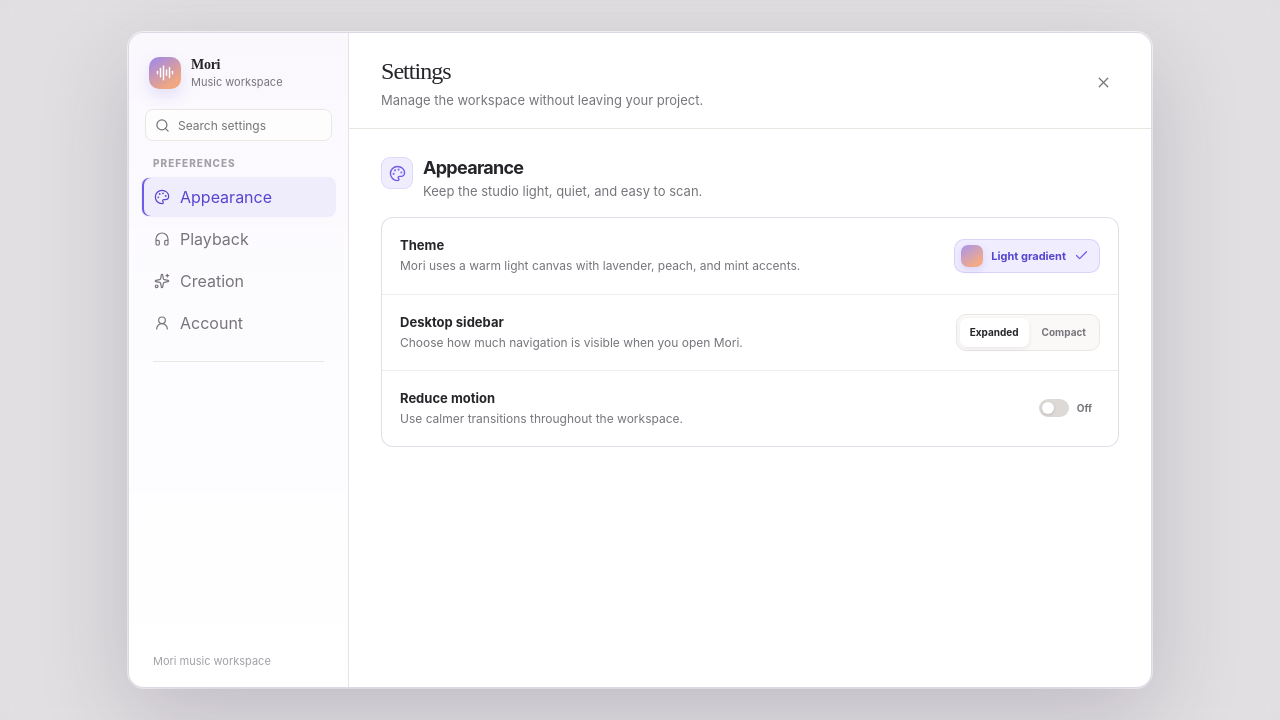
Test: Mori settings › keeps the selected panel aligned with filtered settings sections
Click the tab "Playback".
click(238, 239)  # box [141,219,336,259]
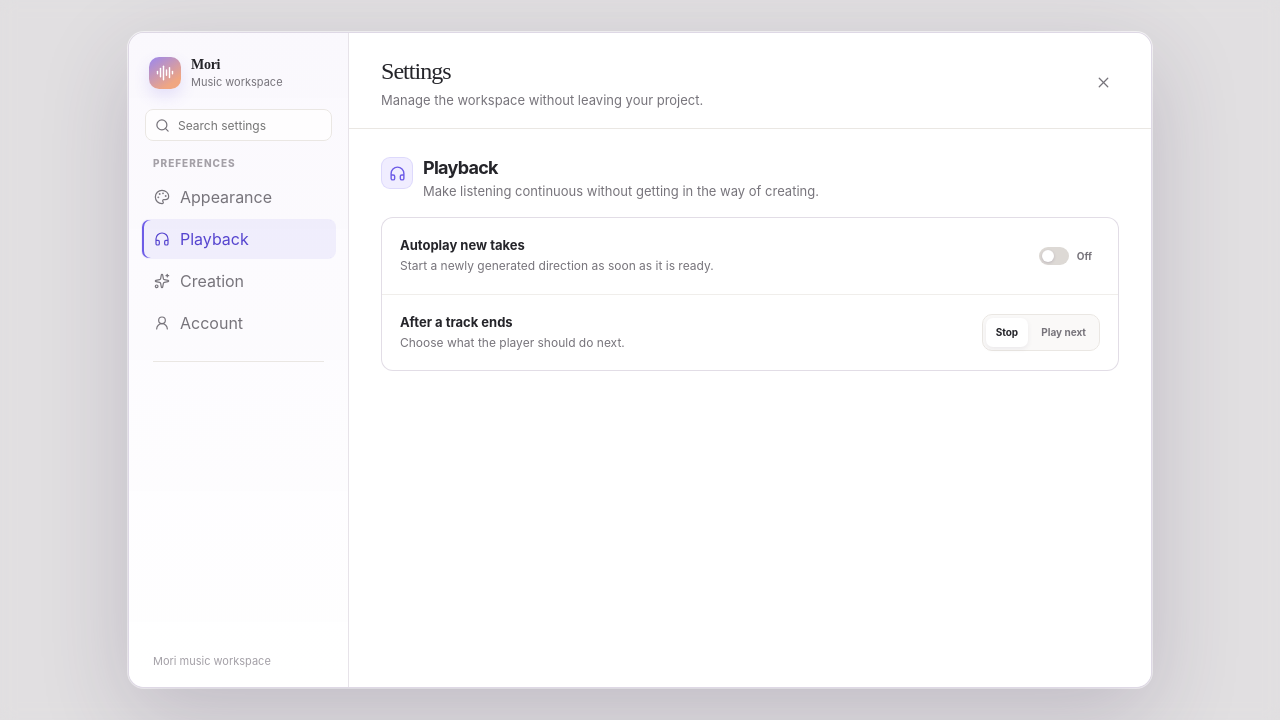
Type "creation" into the field labelled "Search settings".
click(238, 125); type("creation")  # box [145,109,332,141]
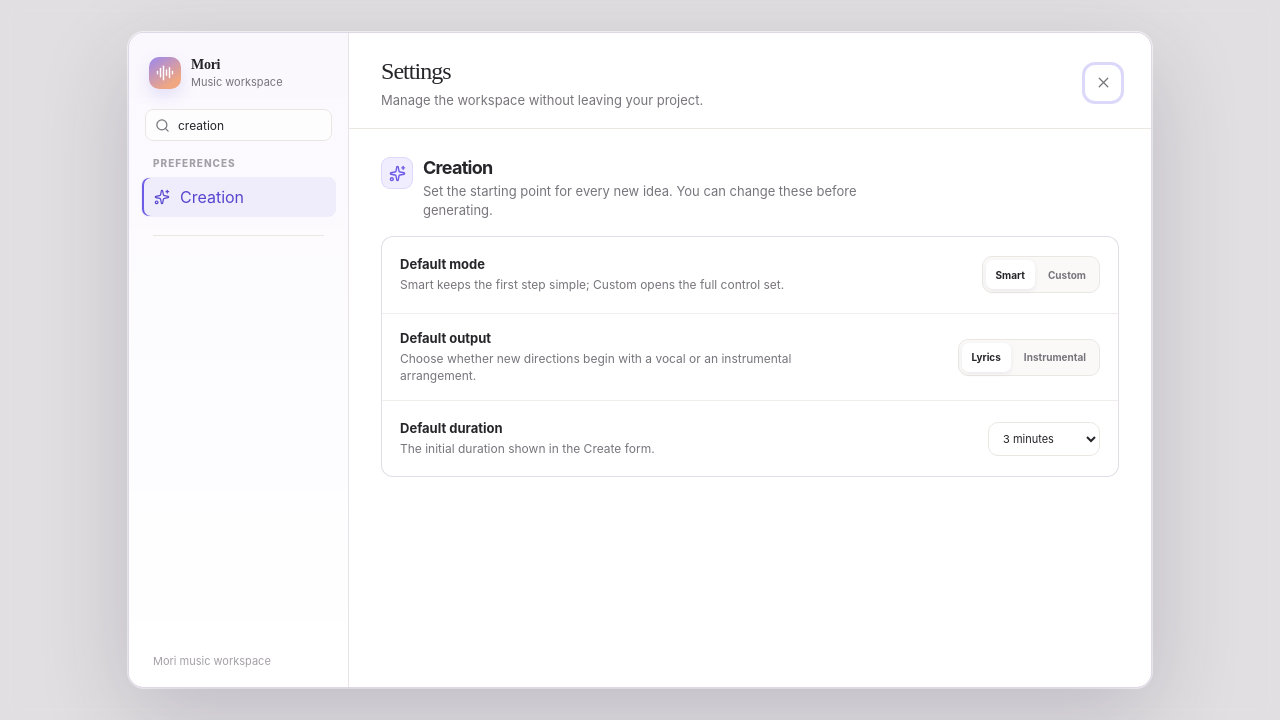
Now the panel "Creation" is shown, box [381,157,1119,478]
Now the heading "Creation" is shown, box [423,157,492,178]
Now the text "Autoplay new takes" is gone
